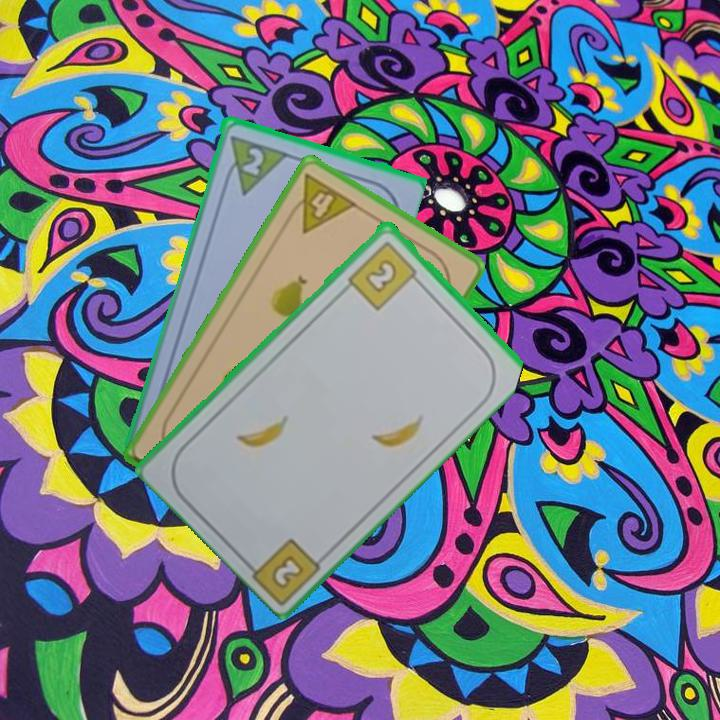2b: (344, 237, 424, 313), (267, 551, 307, 591)
2p: (218, 131, 288, 197)
4p: (281, 170, 360, 236)
